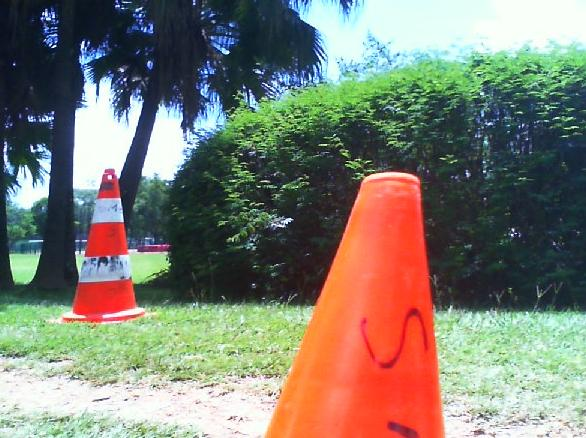0 cone: (261, 172, 446, 438), (46, 168, 145, 327)
